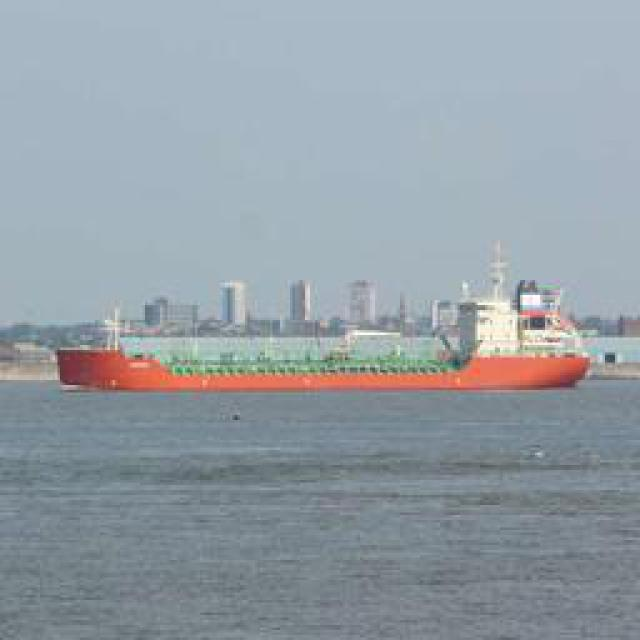Ship: (56, 287, 594, 397)
